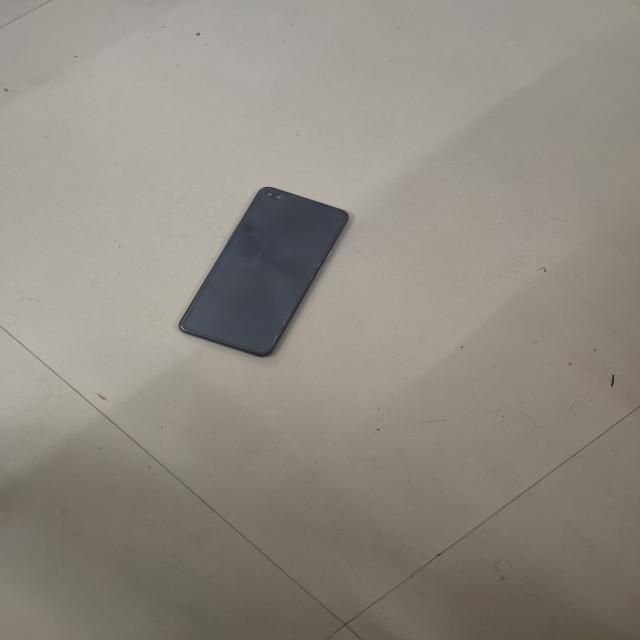Phone: (172, 184, 355, 363)
